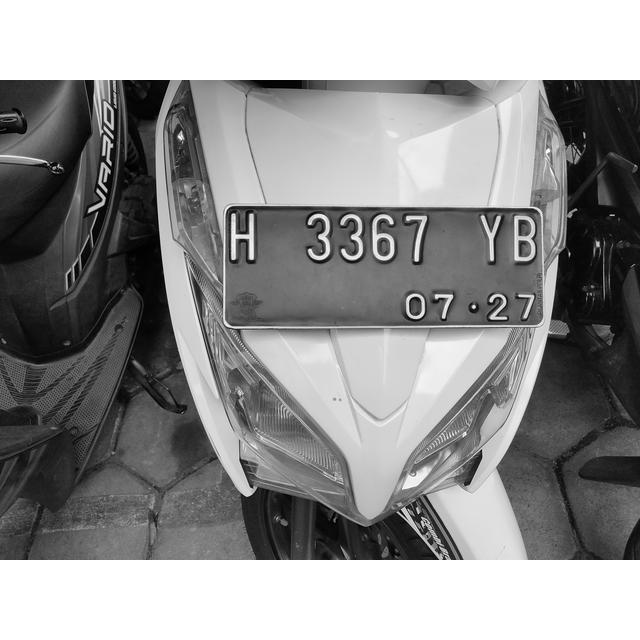license: (228, 208, 540, 323)
